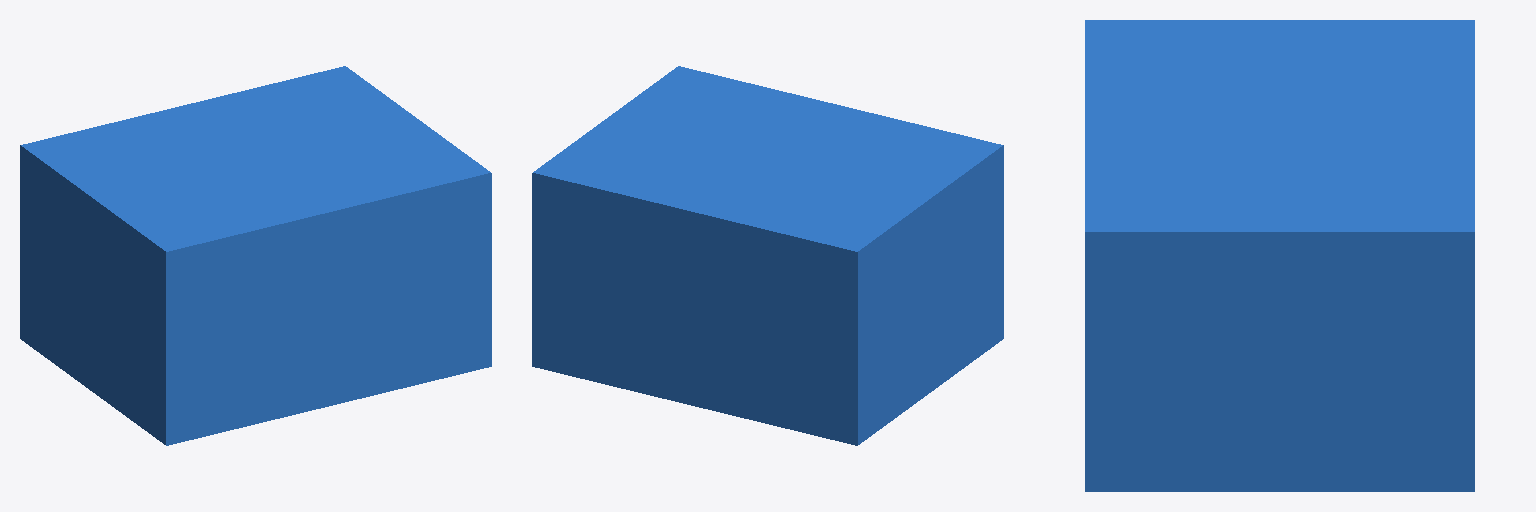
The robot description file, URDF, robot "model.urdf":
<?xml version="0.0" ?>
<robot name="model.urdf">

	<material name="blue">
		<color rgba="0.27 0.56 0.89 1"/>
	</material>

	<link name="baseLink">
		<inertial>
			<mass value="0.227"/>
			<inertia  ixx="0.0003207" ixy="0.00"  ixz="0.00" iyy="0.0004569" iyz="0.00" izz="0.0005533" />
		</inertial>
		<visual>
			<origin xyz="0 0 0" rpy="0 0 0"/>
				<geometry>
					<box size="0.135 0.105 0.077"/>
				</geometry>
			<material name="blue"/>
		</visual>
		<collision>
			<origin xyz="0 0 0" rpy="0 0 0"/>
				<geometry>
					<box size="0.135 0.105 0.077"/>
				</geometry>
		</collision>
	</link>
</robot>

--- Facts derived from the render (not from the file) ---
3 views of the same robot in one strip: view 1: azimuth 30°, elevation 25°; view 2: azimuth 150°, elevation 25°; view 3: azimuth 270°, elevation 25° (orthographic).
Model model.urdf with 1 links and 0 joints (none), rooted at baseLink, posed all joints at 0.
Visible links, largest first — view 1: baseLink; view 2: baseLink; view 3: baseLink.
Link boxes in pixels (left/top/right/bottom): baseLink: left=20, top=66, right=491, bottom=445; baseLink: left=532, top=66, right=1003, bottom=445; baseLink: left=1085, top=20, right=1474, bottom=491.
Size in the robot's own frame: 0.135 by 0.105 by 0.077 metres.
Geometry: primitives only (box / cylinder / sphere), no mesh files.